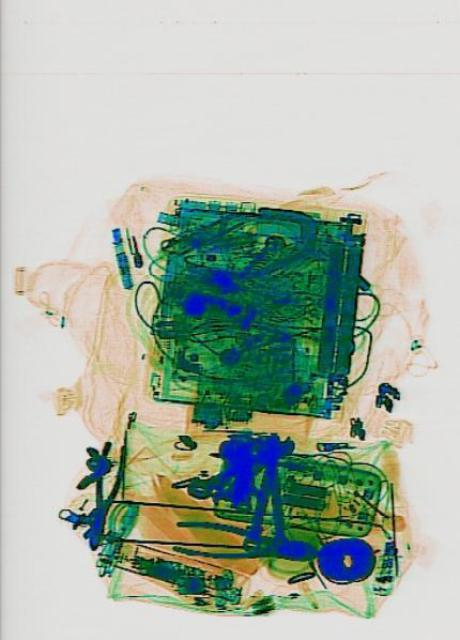Pliers: (171, 516, 313, 572), (78, 436, 127, 554)
